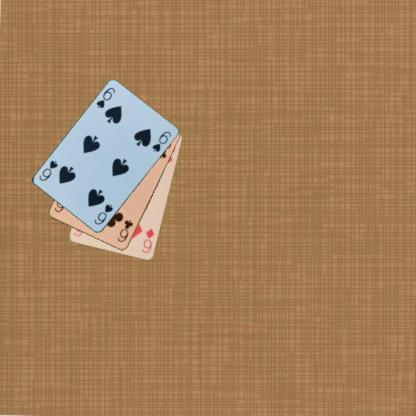6c: (115, 217, 134, 244)
6d: (140, 226, 156, 255)
6s: (92, 201, 114, 226), (94, 85, 116, 110)
